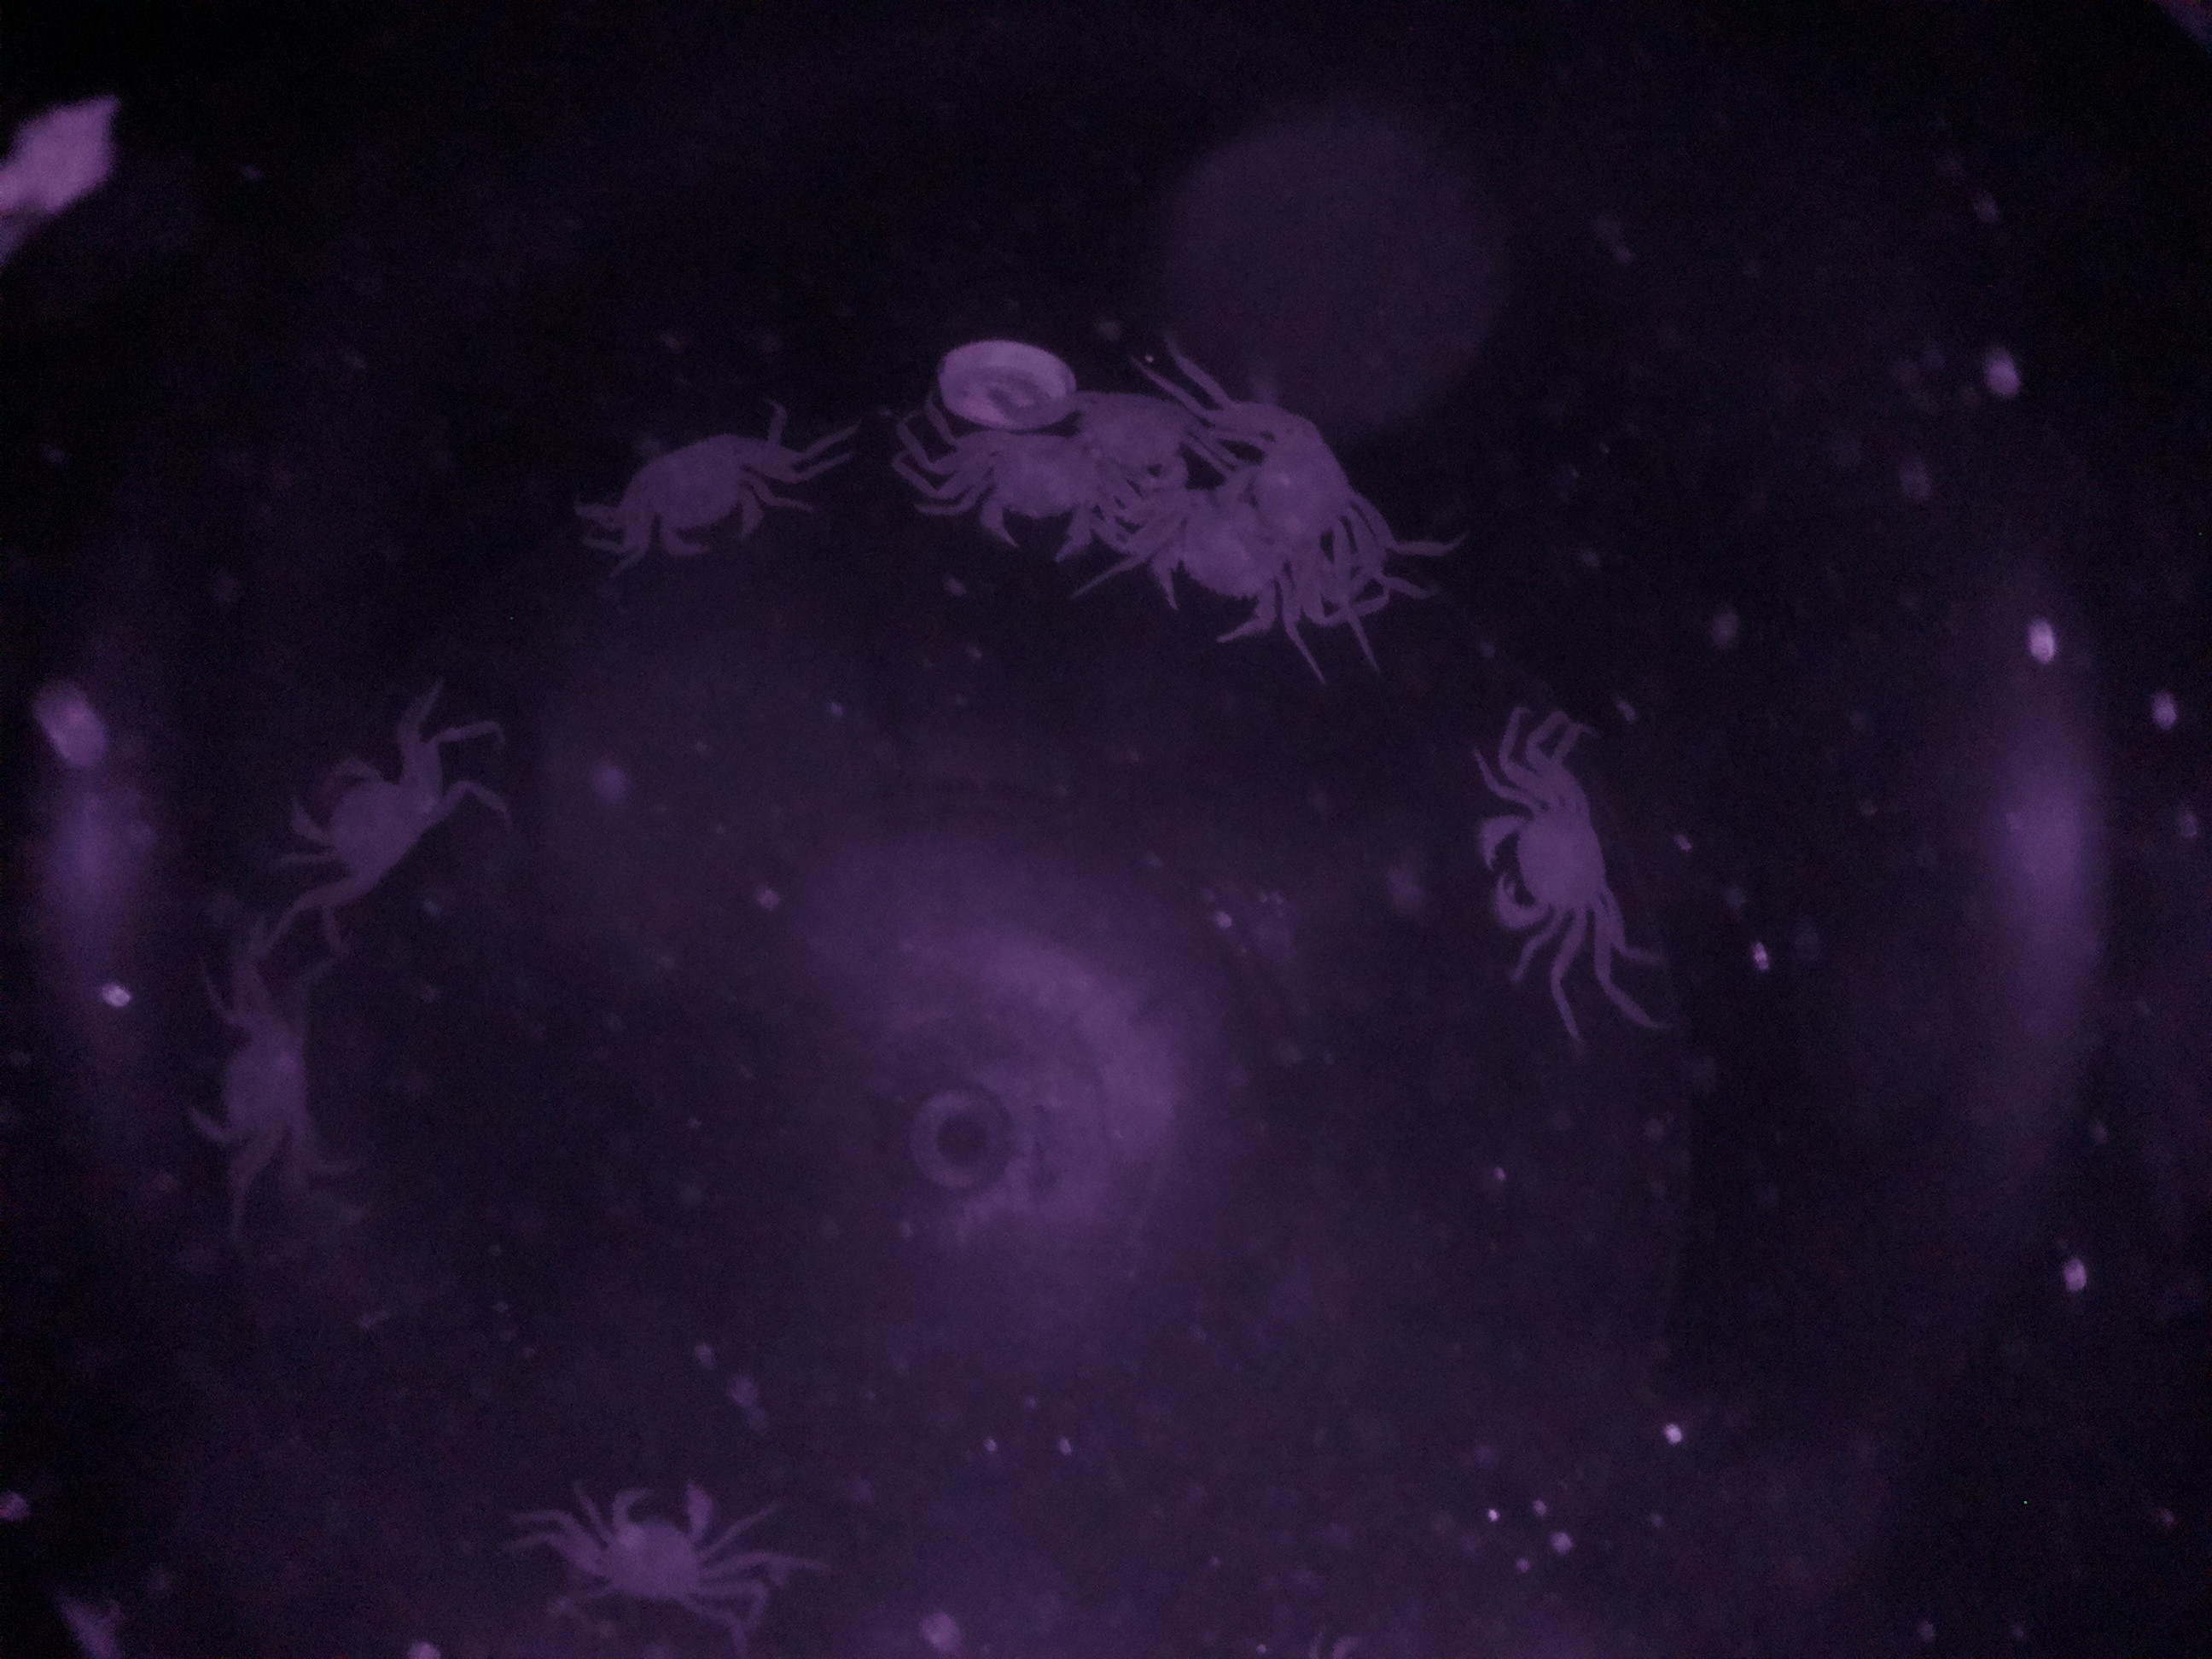Crab: (1461, 746, 1649, 971), (604, 403, 806, 575)
